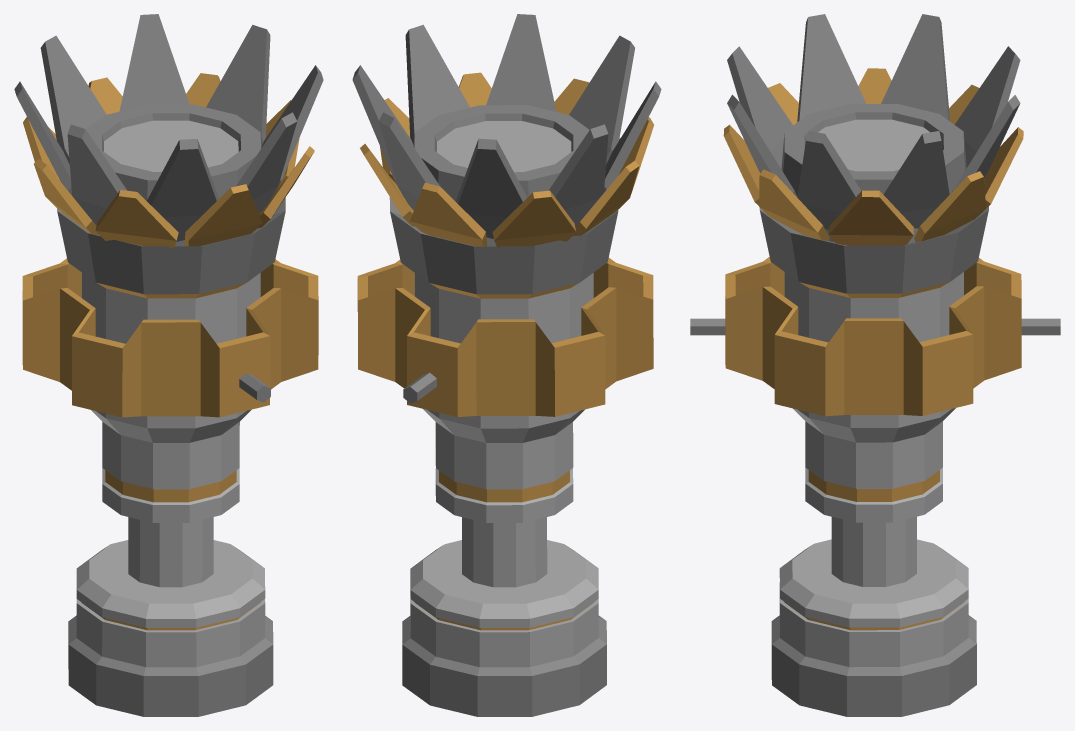
The model's file is Props_Statue.gltf.
The picture shows the model from 3 angles, left to right: view 1: azimuth 30°, elevation 25°; view 2: azimuth 150°, elevation 25°; view 3: azimuth 270°, elevation 25°; orthographic projection.
Parts seen in each view (by area): view 1: Props_Statue; view 2: Props_Statue; view 3: Props_Statue.
Part boxes in pixels (bbox=[...]): Props_Statue: bbox=[14, 14, 323, 716]; Props_Statue: bbox=[352, 14, 661, 716]; Props_Statue: bbox=[690, 14, 1060, 716].
Bounding box in the file's own units: 1.18 × 2.61 × 1.46.
